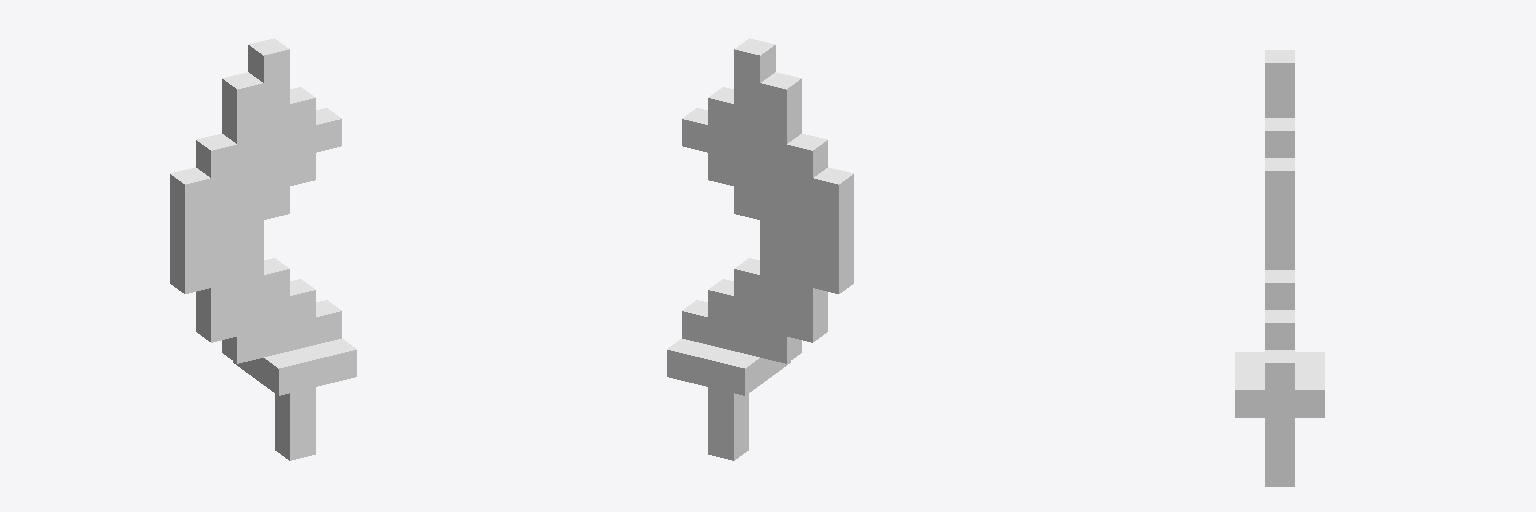
Rendered from kiem.obj.
The picture shows the model from 3 angles: view 1: azimuth 30°, elevation 25°; view 2: azimuth 150°, elevation 25°; view 3: azimuth 270°, elevation 25°; orthographic projection.
Parts seen in each view (by area): view 1: object 1; view 2: object 1; view 3: object 1.
Boxes of the visible parts, box(x1,y1,x2,y2) form: object 1: box(170, 38, 356, 460); object 1: box(667, 38, 853, 460); object 1: box(1235, 50, 1324, 486).
Bounding box in the file's own units: 0.6 × 1.5 × 0.3.